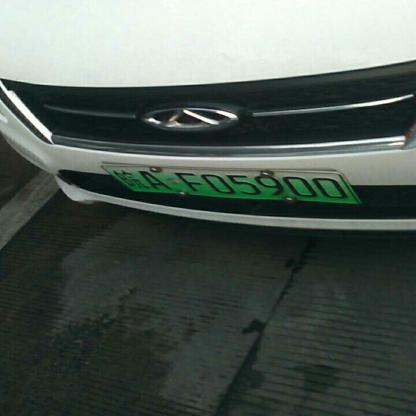lp: (100, 165, 360, 204)
